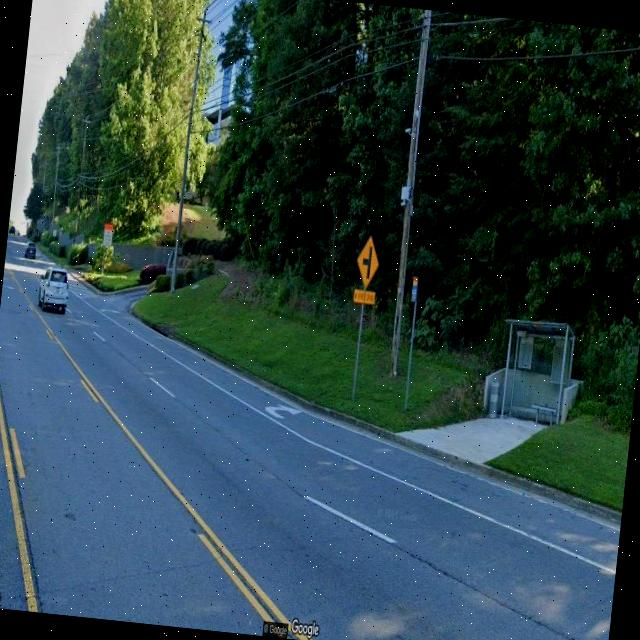seating: (528, 404, 557, 426)
shelter: (493, 316, 579, 434)
trash_can: (486, 380, 501, 420)
